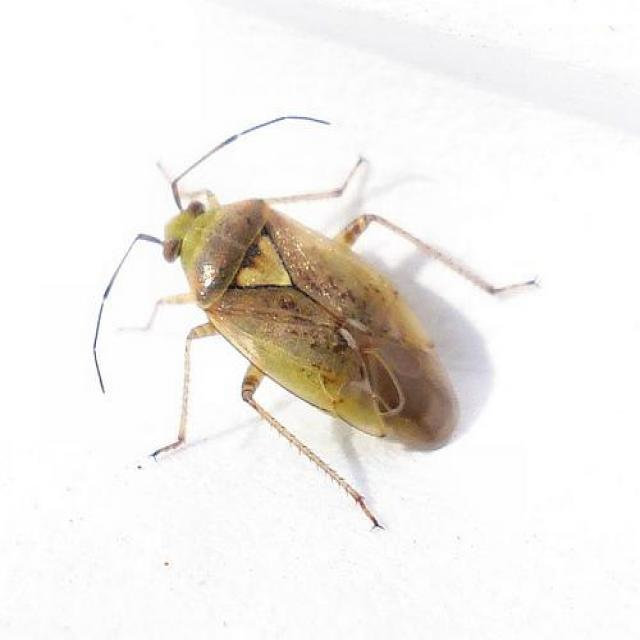Miridae-Adult-: (90, 108, 548, 537)
